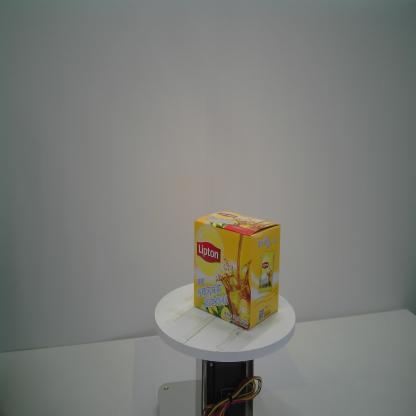Instant Drink: (193, 210, 282, 332)
